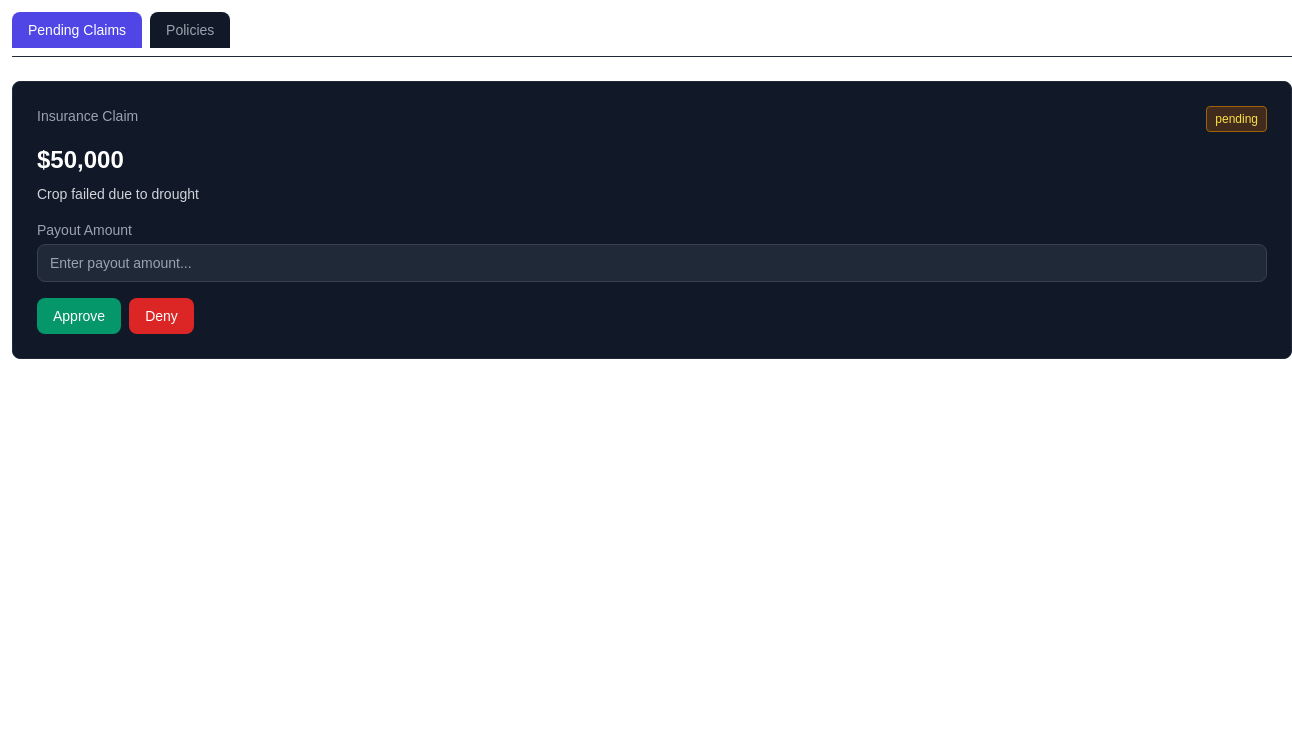
Test case: InsuranceOwnerPanel › Tab navigation › switches to policies tab on click
This screenshot has width=1292, height=732.
Click the button "Policies": (190, 30) [150,12,230,48]
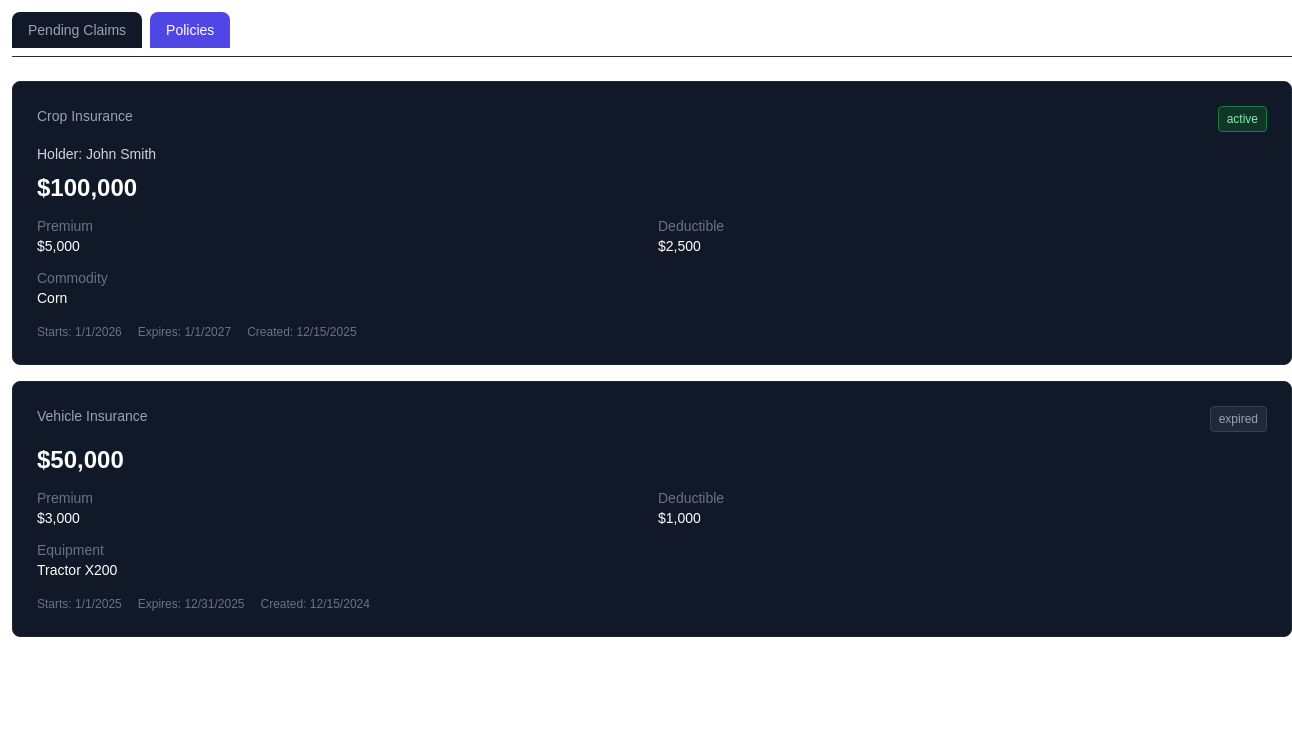
Expected: the heading "Crop Insurance" is shown, [37,106,133,126]
